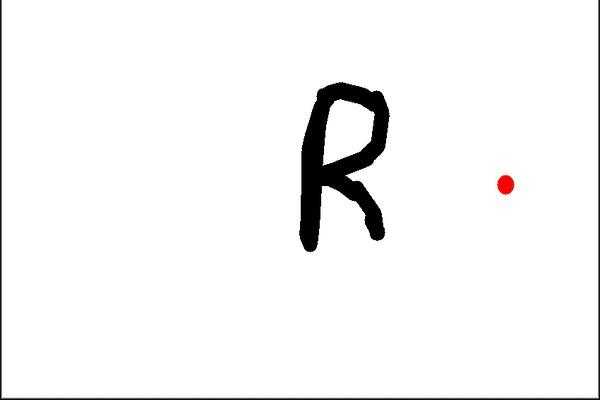R: (292, 70, 406, 255)
